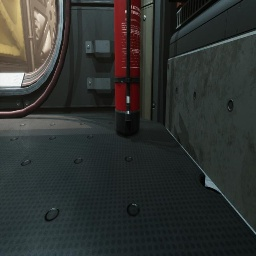FireExtinguisher ]: (114, 0, 141, 137)
